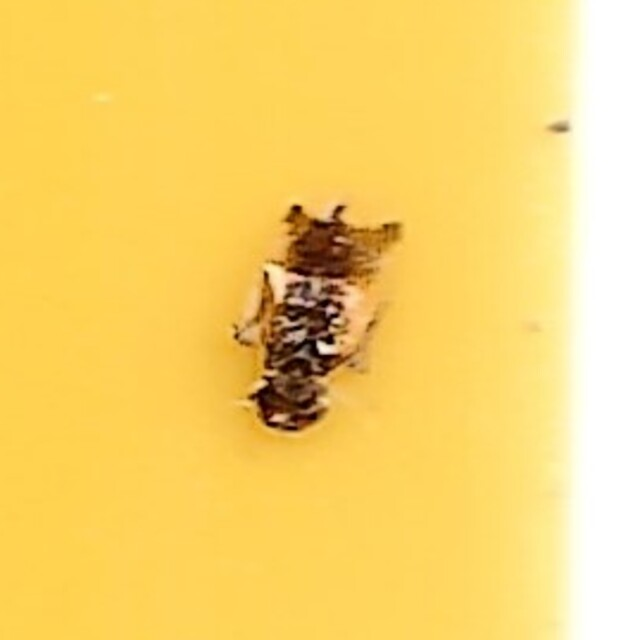Hemiptera: (238, 204, 402, 436)
